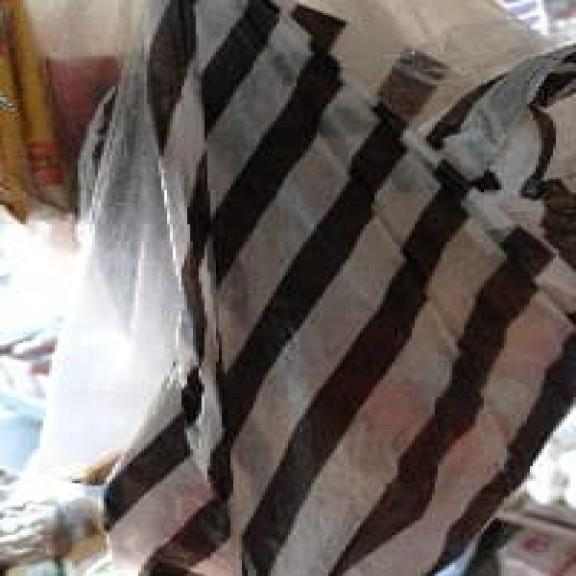Plastik: (42, 0, 572, 574)
